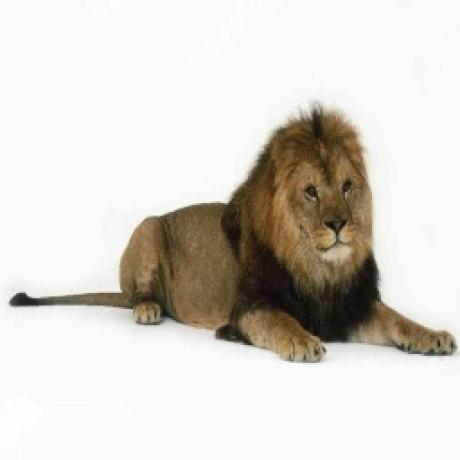Lion: (0, 100, 460, 371)
